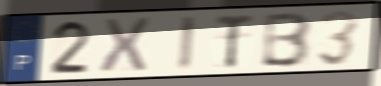2: (49, 18, 93, 78)
3: (316, 8, 366, 68)
B: (258, 10, 314, 69)
I: (176, 14, 198, 73)
T: (214, 12, 256, 71)
X: (97, 16, 152, 76)
